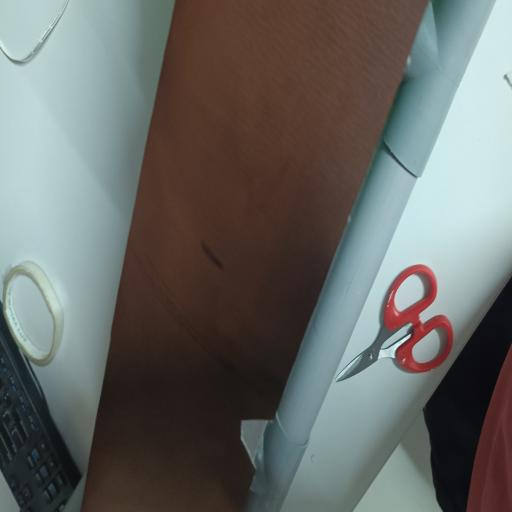belt_tear: (100, 174, 304, 480)
